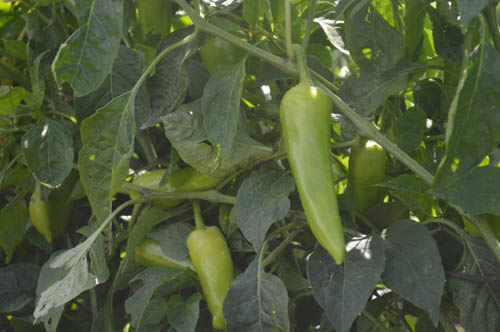ChiliPepper: (282, 87, 345, 266), (187, 229, 234, 310), (343, 141, 382, 211), (132, 170, 220, 201), (206, 29, 244, 81), (139, 238, 190, 268), (30, 202, 55, 243)
